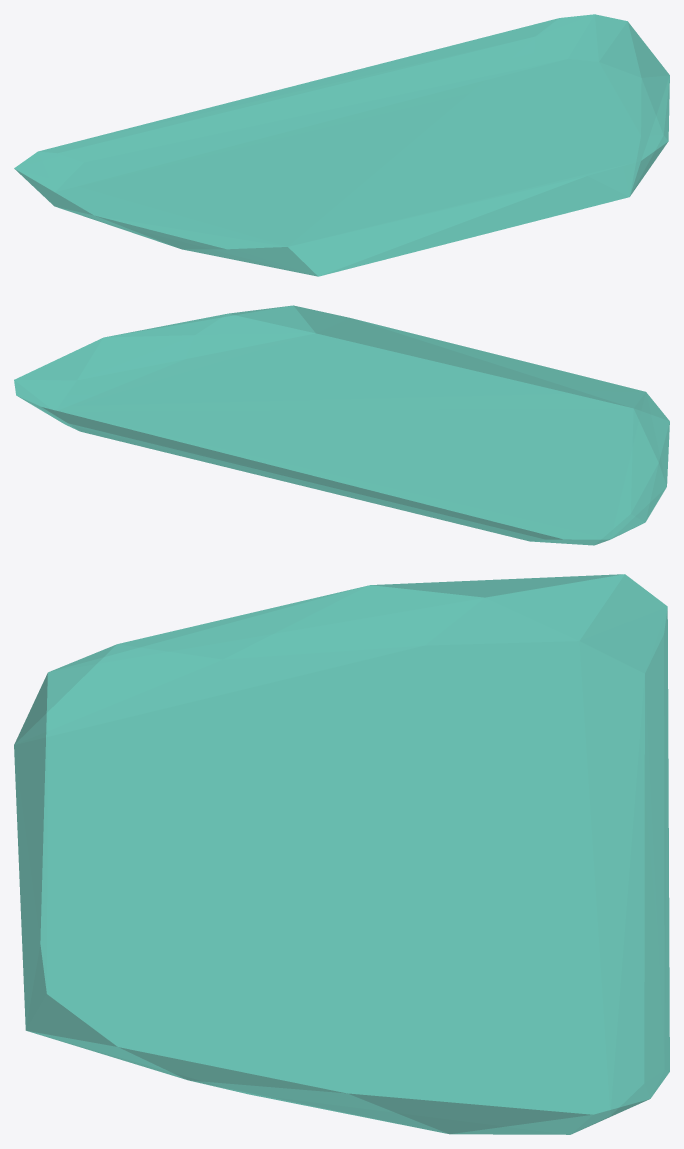
3 renders of one model, top to bottom at view 1: azimuth 30°, elevation 25°; view 2: azimuth 150°, elevation 25°; view 3: azimuth 270°, elevation 25°, orthographic. The views are drawn at different scales.
Parts seen in each view (by area): view 1: Shape_IndexedFaceSet.016_Shape_IndexedFaceSet.18169; view 2: Shape_IndexedFaceSet.016_Shape_IndexedFaceSet.18169; view 3: Shape_IndexedFaceSet.016_Shape_IndexedFaceSet.18169.
Part boxes in pixels (x1,y1,x2,y2): Shape_IndexedFaceSet.016_Shape_IndexedFaceSet.18169: (14, 14, 669, 276); Shape_IndexedFaceSet.016_Shape_IndexedFaceSet.18169: (14, 305, 669, 545); Shape_IndexedFaceSet.016_Shape_IndexedFaceSet.18169: (14, 574, 669, 1134).
Bounding box in the file's own units: 0.8226 × 0.0372 × 0.4136.
